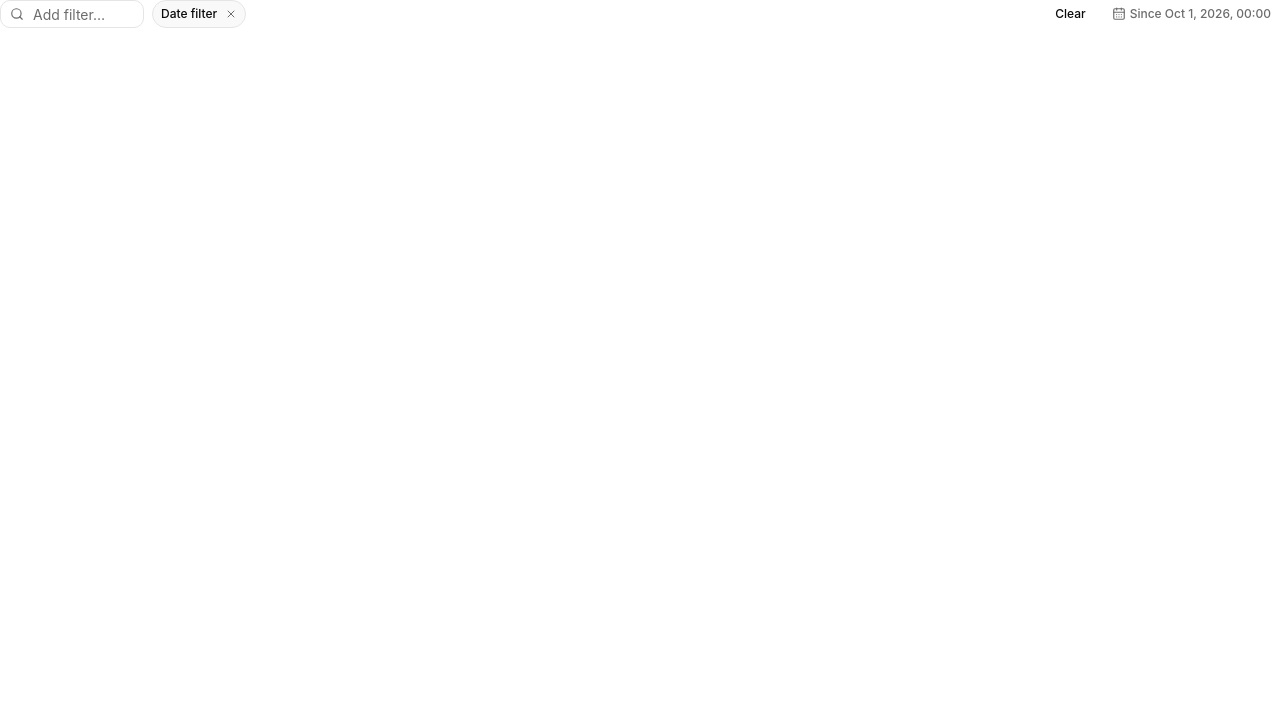
Scenario: returns focus to the date editor button after Escape
The width and height of the screenshot is (1280, 720).
Click the button with aria-label "Edit date filter" at (1191, 14), box [1103,2,1279,26]
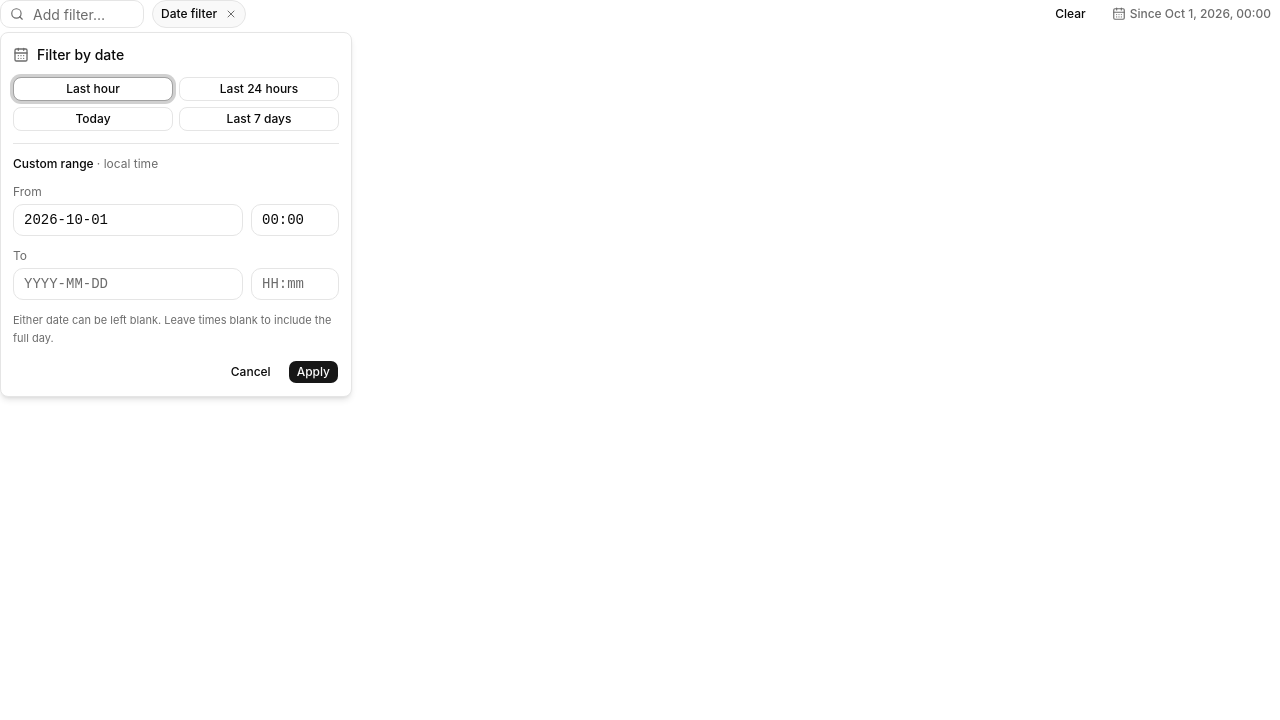
Now the dialog "Filter by date" is shown, box [0,32,352,397]
Press Escape
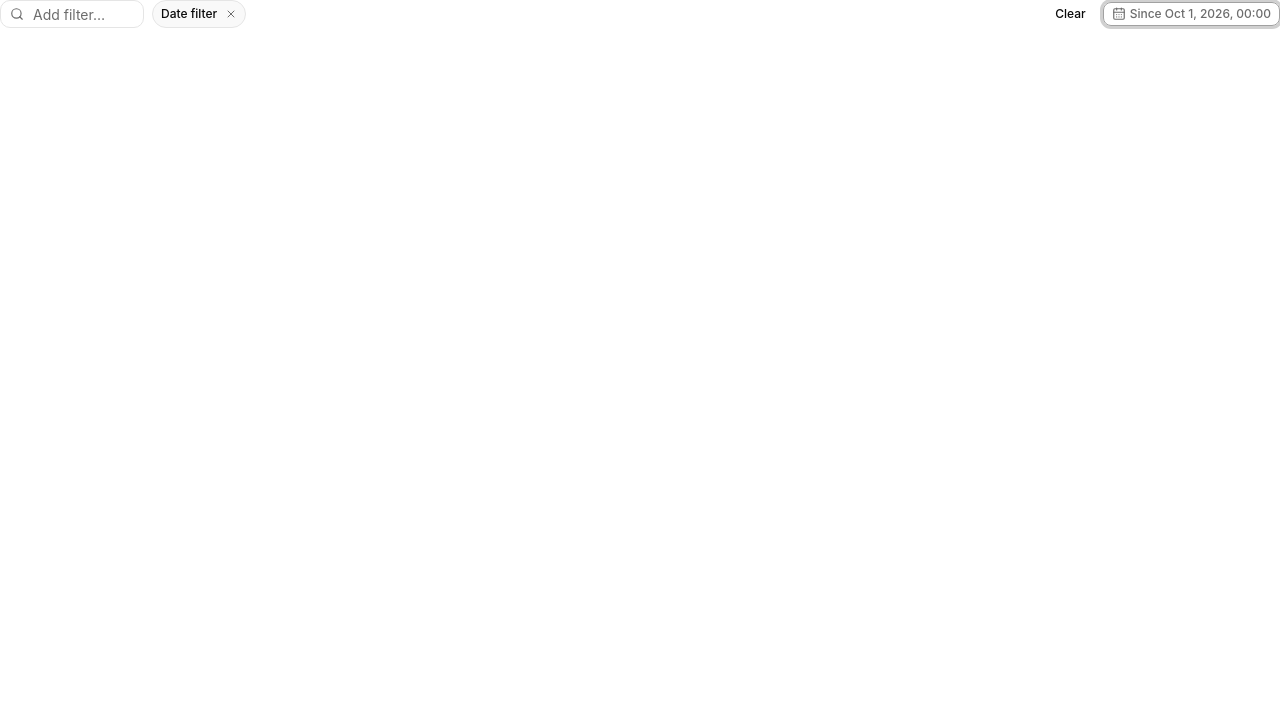
Now the heading "Filter by date" is gone
